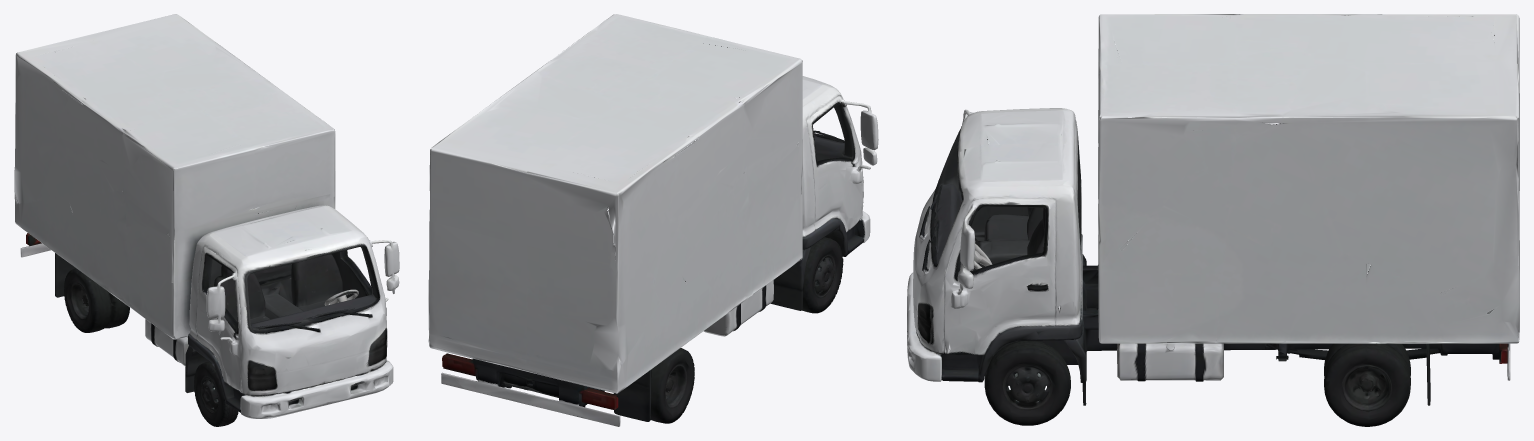
The model's file is truck.glb.
3 views of the same model, side by side, from view 1: azimuth 30°, elevation 25°; view 2: azimuth 150°, elevation 25°; view 3: azimuth 270°, elevation 25° (orthographic). The views are drawn at different scales.
Parts seen in each view (by area): view 1: tripo_node_2e117e5d-f1c4-47fe-882c-cc6c9bb3bb65; view 2: tripo_node_2e117e5d-f1c4-47fe-882c-cc6c9bb3bb65; view 3: tripo_node_2e117e5d-f1c4-47fe-882c-cc6c9bb3bb65.
Part boxes in pixels (bbox=[...]): tripo_node_2e117e5d-f1c4-47fe-882c-cc6c9bb3bb65: bbox=[14, 14, 399, 426]; tripo_node_2e117e5d-f1c4-47fe-882c-cc6c9bb3bb65: bbox=[428, 14, 878, 426]; tripo_node_2e117e5d-f1c4-47fe-882c-cc6c9bb3bb65: bbox=[907, 14, 1519, 426].
Size of the model in its own units: 0.4667 by 0.5572 by 0.9785.
1 material, 1 textured.
